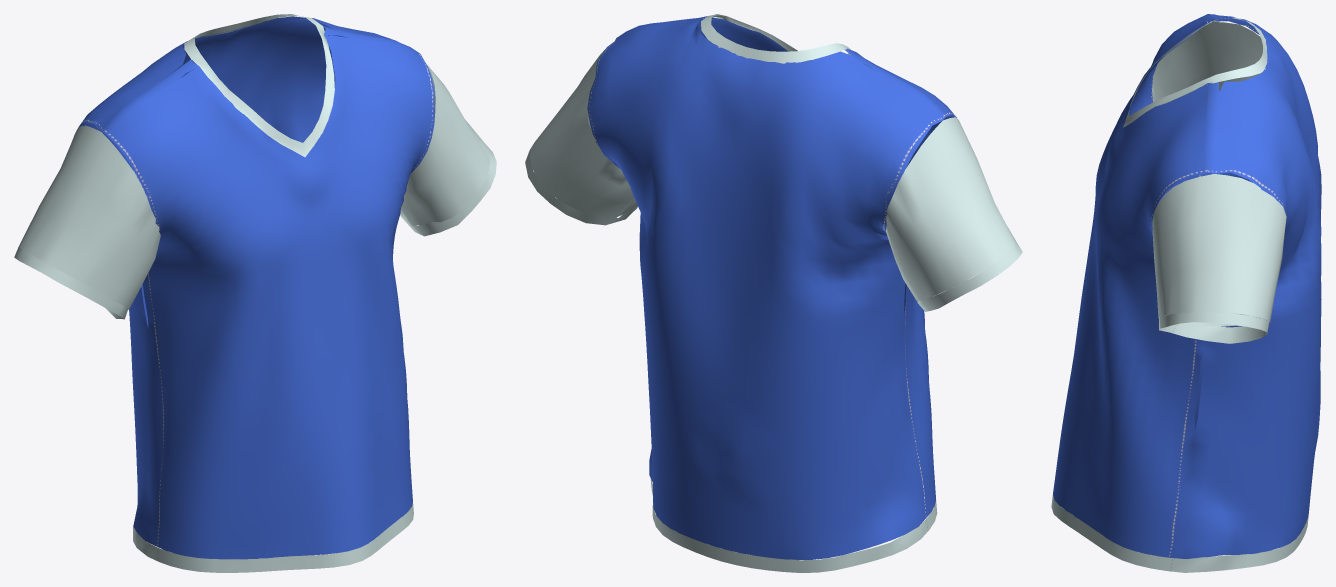
The model's file is shirt_visual.glb.
3 views of the same model, side by side, from view 1: azimuth 30°, elevation 25°; view 2: azimuth 150°, elevation 25°; view 3: azimuth 270°, elevation 25° (orthographic). The views are drawn at different scales.
Visible parts, largest first — view 1: 0RetopoMain.004; view 2: 0RetopoMain.004; view 3: 0RetopoMain.004.
Boxes of the visible parts, x1,y1,x2,y2 form: 0RetopoMain.004: [14, 14, 496, 572]; 0RetopoMain.004: [525, 14, 1022, 572]; 0RetopoMain.004: [1051, 14, 1321, 572].
Size of the model in its own units: 0.5929 by 0.5938 by 0.3038.
1 material, 1 textured.
